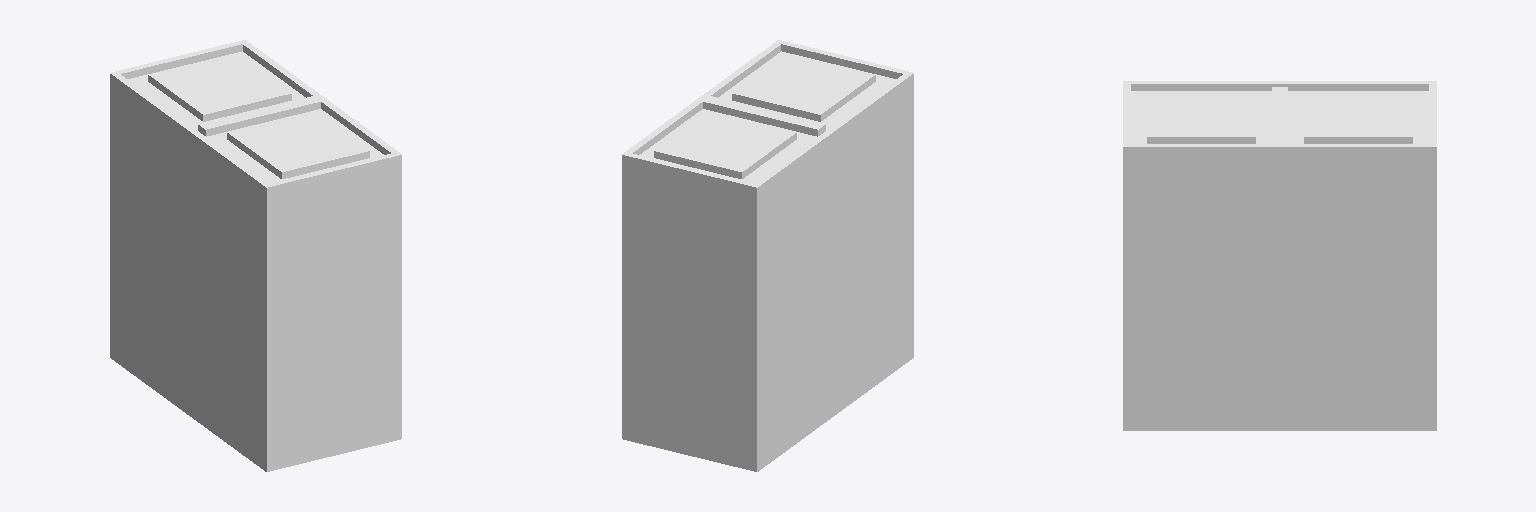
The model's file is Door.obj.
The picture shows the model from 3 angles: view 1: azimuth 30°, elevation 25°; view 2: azimuth 150°, elevation 25°; view 3: azimuth 270°, elevation 25°; orthographic projection.
Parts seen in each view (by area): view 1: Door; view 2: Door; view 3: Door.
Part boxes in pixels (x1,y1,x2,y2): Door: (110,40,401,471); Door: (622,40,913,471); Door: (1123,81,1436,430).
Size of the model in its own units: 1 by 2 by 2.